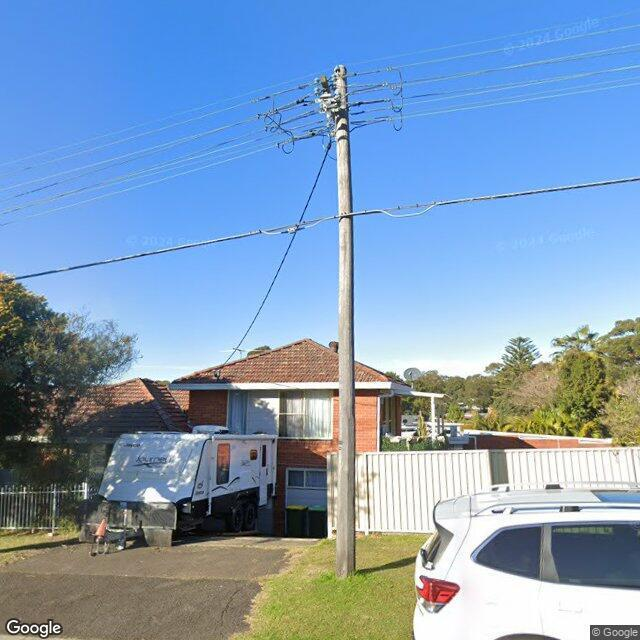crossarm: (319, 75, 337, 122)
timber-pole: (333, 67, 356, 576)
